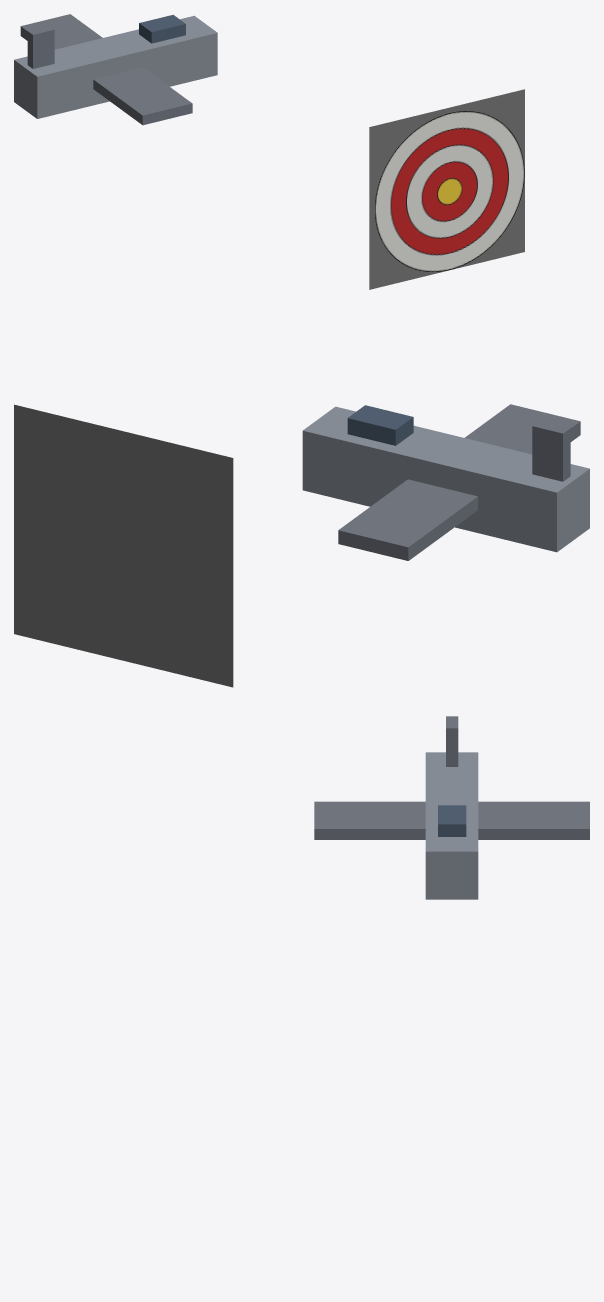
Rendered from jet_3tou_3d.glb.
3 renders of one model, top to bottom at view 1: azimuth 30°, elevation 25°; view 2: azimuth 150°, elevation 25°; view 3: azimuth 270°, elevation 25°, orthographic. The views are drawn at different scales.
Parts seen in each view (by area): view 1: jet_target, jet_fuselage, jet_wings, jet_tail, jet_cockpit; view 2: jet_target, jet_fuselage, jet_wings, jet_tail, jet_cockpit; view 3: jet_wings, jet_fuselage, jet_cockpit.
Part boxes in pixels (x1,y1,x2,y2): jet_target: (369, 89, 524, 289); jet_fuselage: (14, 15, 217, 118); jet_wings: (20, 14, 192, 125); jet_tail: (27, 25, 54, 68); jet_cockpit: (139, 14, 185, 43); jet_target: (14, 404, 233, 687); jet_fuselage: (302, 406, 589, 552); jet_wings: (338, 404, 580, 560); jet_tail: (532, 420, 570, 481); jet_cockpit: (347, 405, 413, 445); jet_wings: (314, 801, 589, 839); jet_fuselage: (425, 752, 478, 899); jet_cockpit: (438, 805, 466, 836).
Bounding box in the file's own units: 1.44 × 0.89 × 1.42.
9 materials, 3 textured.
